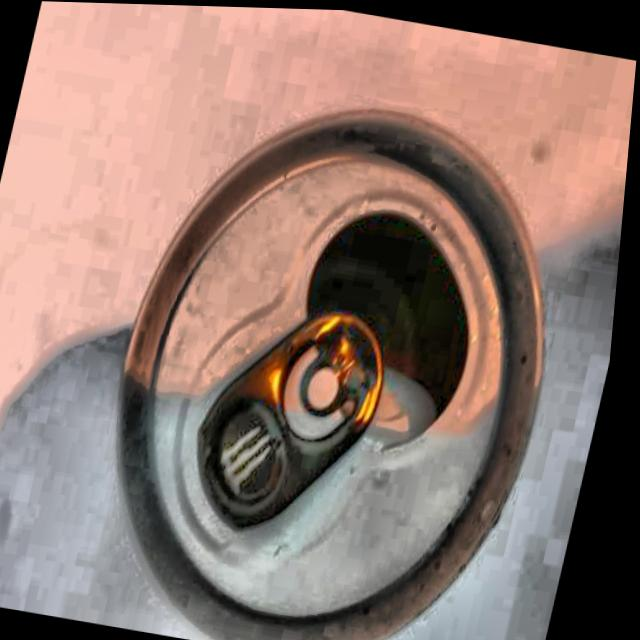Cans: (55, 37, 626, 640)
